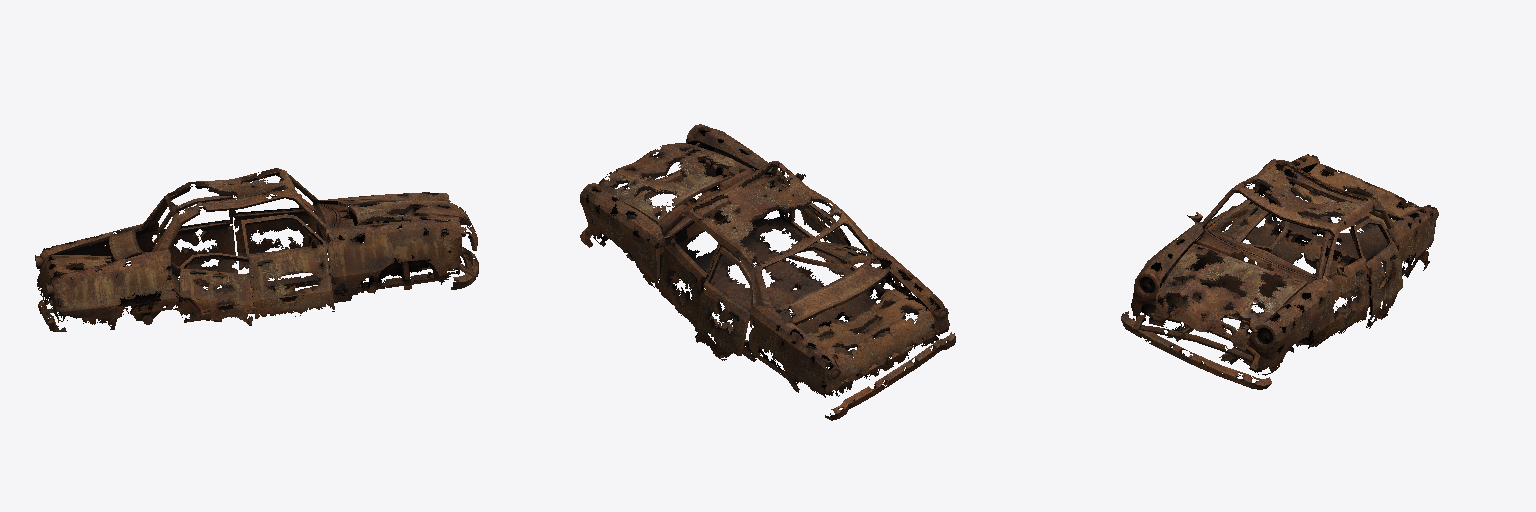
3 renders of one model, left to right at view 1: azimuth 30°, elevation 25°; view 2: azimuth 150°, elevation 25°; view 3: azimuth 270°, elevation 25°, orthographic.
Parts seen in each view (by area): view 1: c3; view 2: c3; view 3: c3.
Boxes of the visible parts, x1=… form: c3: x1=35, y1=168, x2=478, y2=331; c3: x1=580, y1=124, x2=955, y2=420; c3: x1=1121, y1=154, x2=1438, y2=389.
Size of the model in its own units: 5.7 by 2.15 by 3.99.
Materials: 1 (1 with a texture image).